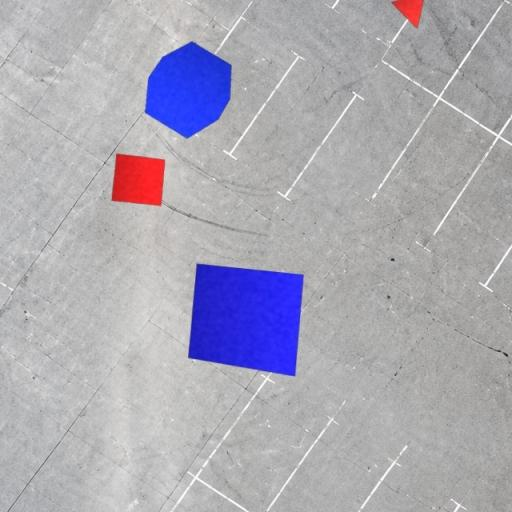BLUE_SQUARE: (187, 263, 305, 378)
RED_SQUARE: (110, 153, 166, 206)
